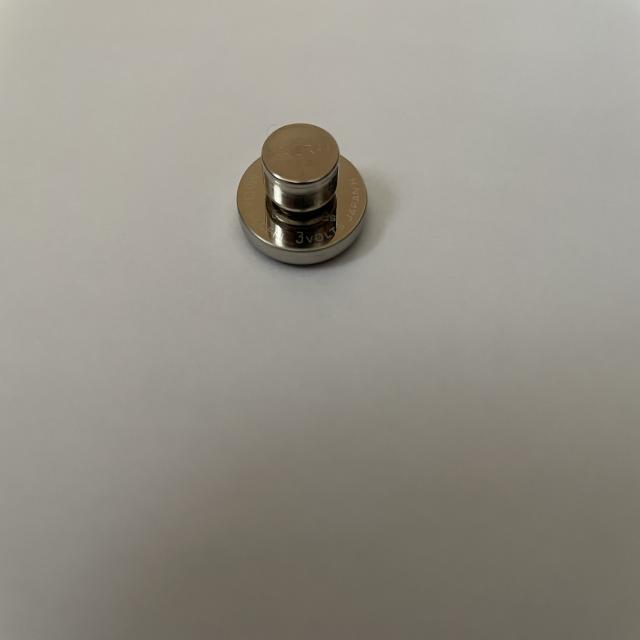COIN: (234, 150, 371, 266), (260, 119, 340, 212)
